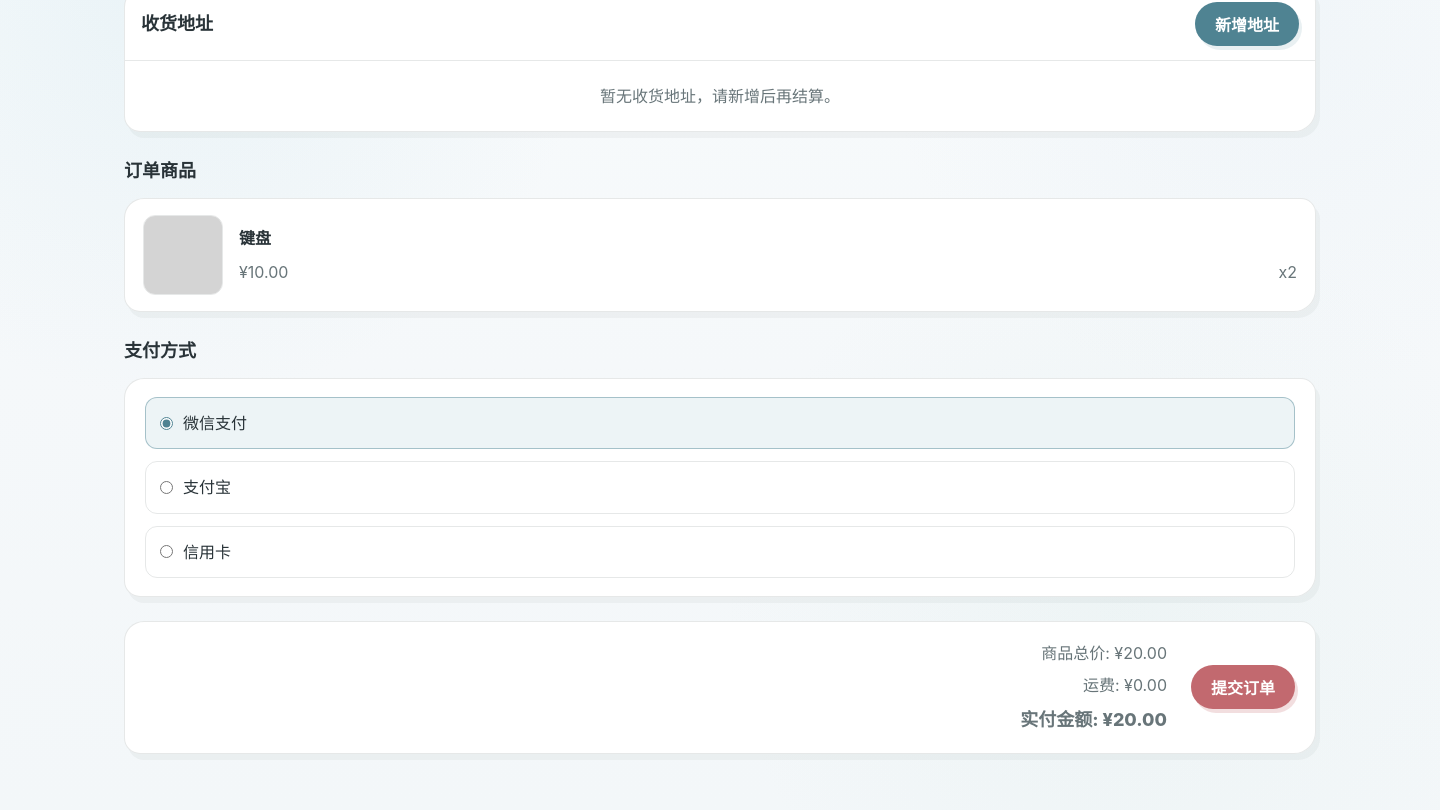
Test: 结算页面 › 没有地址时拒绝提交订单
(page scrolled)
Click the button "提交订单" at {"x": 1243, "y": 687}, box x1=1191 y1=665 x2=1295 y2=709
(page scrolled)
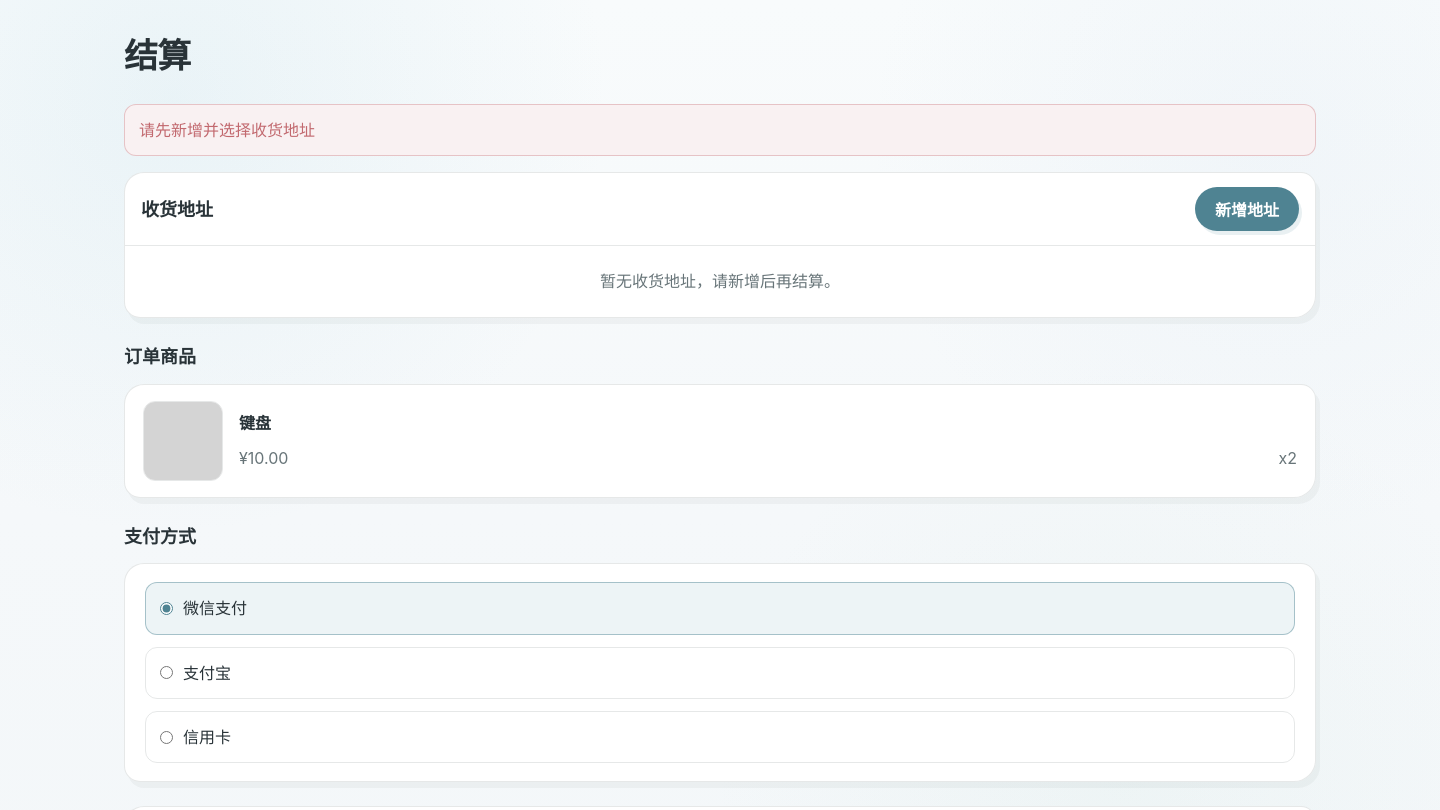
Result: the text "请先新增并选择收货地址" is shown at x1=124 y1=104 x2=1316 y2=156
